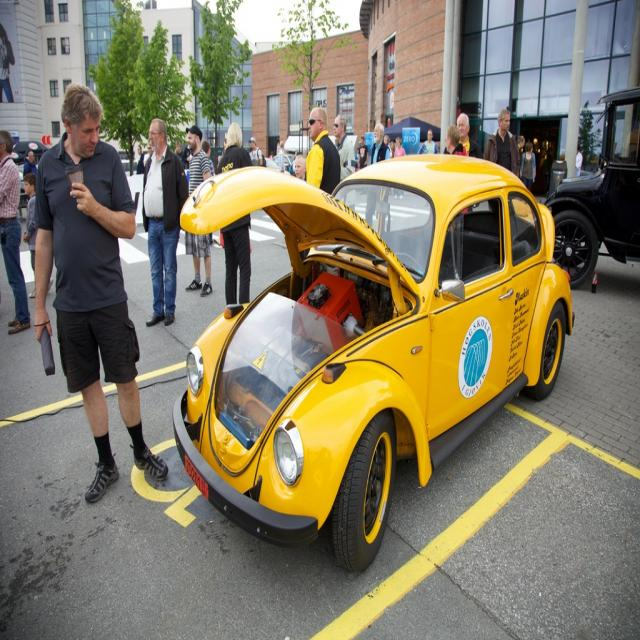other: (162, 149, 574, 575)
